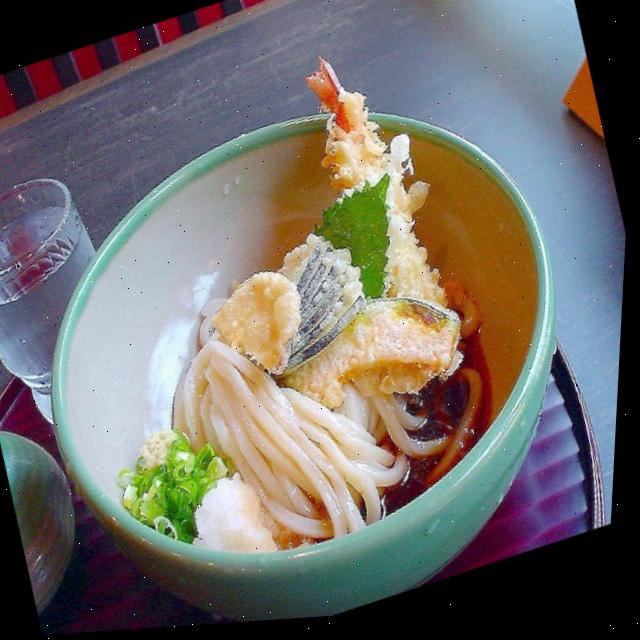面条主食: (22, 3, 572, 627)
